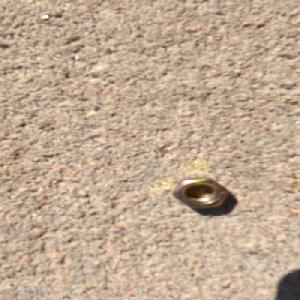Nut: (167, 175, 233, 211)
